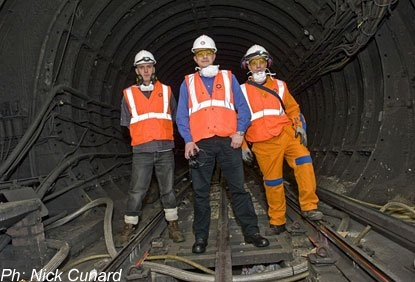white: (192, 34, 217, 69), (243, 44, 271, 75), (132, 50, 157, 80)
